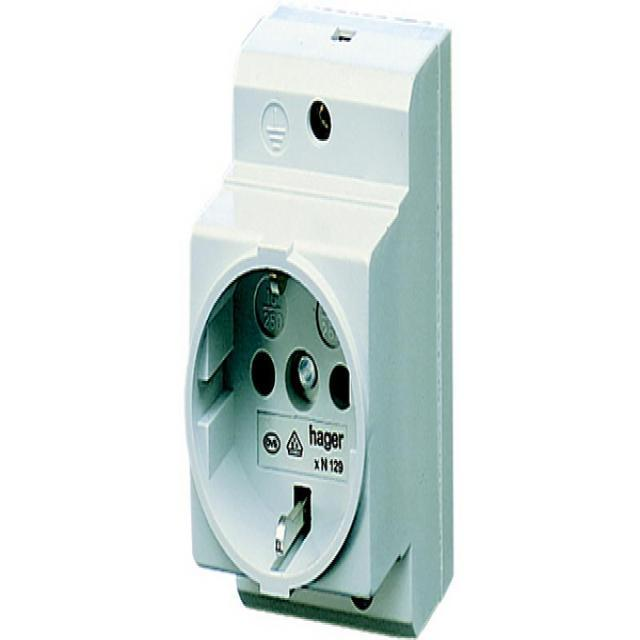typeb: (167, 200, 421, 625)
